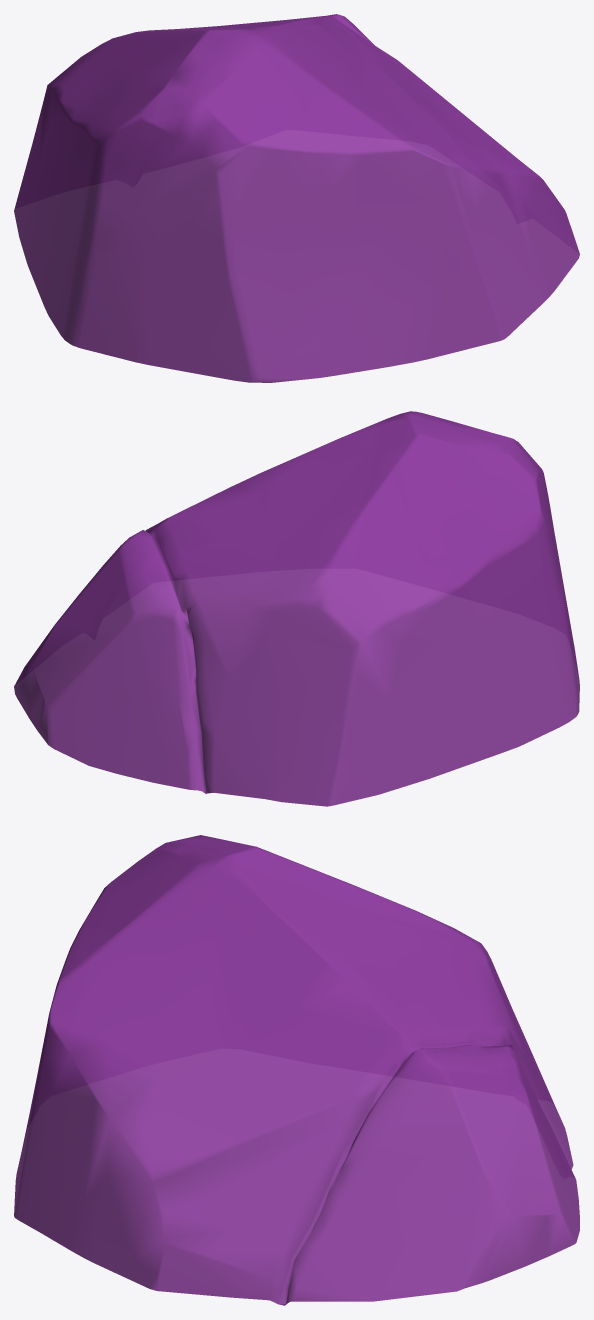
File: SM_Stone_02_low.fbx
The picture shows the model from 3 angles, top to bottom: view 1: azimuth 30°, elevation 25°; view 2: azimuth 150°, elevation 25°; view 3: azimuth 270°, elevation 25°; orthographic projection. The views are drawn at different scales.
Visible parts, largest first — view 1: SM_Stone_02_low; view 2: SM_Stone_02_low; view 3: SM_Stone_02_low.
Boxes of the visible parts, left/top/right/bottom form: SM_Stone_02_low: left=14, top=14, right=579, bottom=382; SM_Stone_02_low: left=14, top=411, right=579, bottom=806; SM_Stone_02_low: left=14, top=835, right=579, bottom=1305.
Size of the model in its own units: 1005 by 977 by 569.
